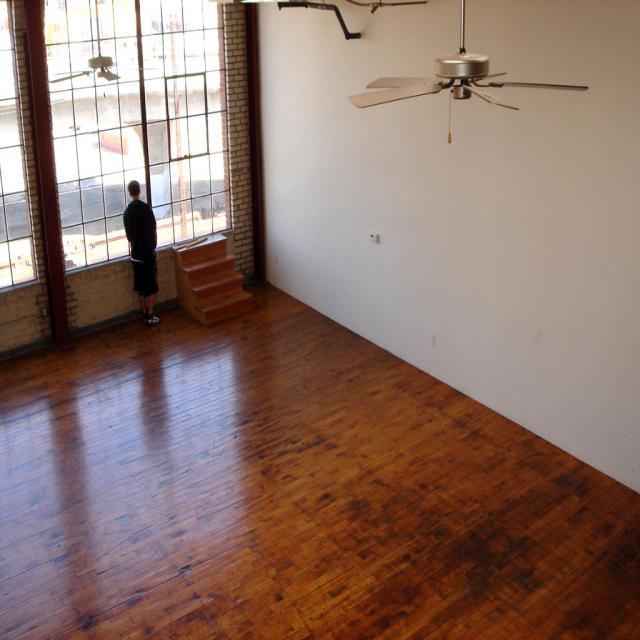Bulb: (347, 0, 589, 143), (44, 0, 156, 91), (49, 0, 162, 84)
